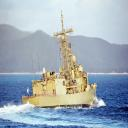Fragata: (23, 9, 100, 109)
